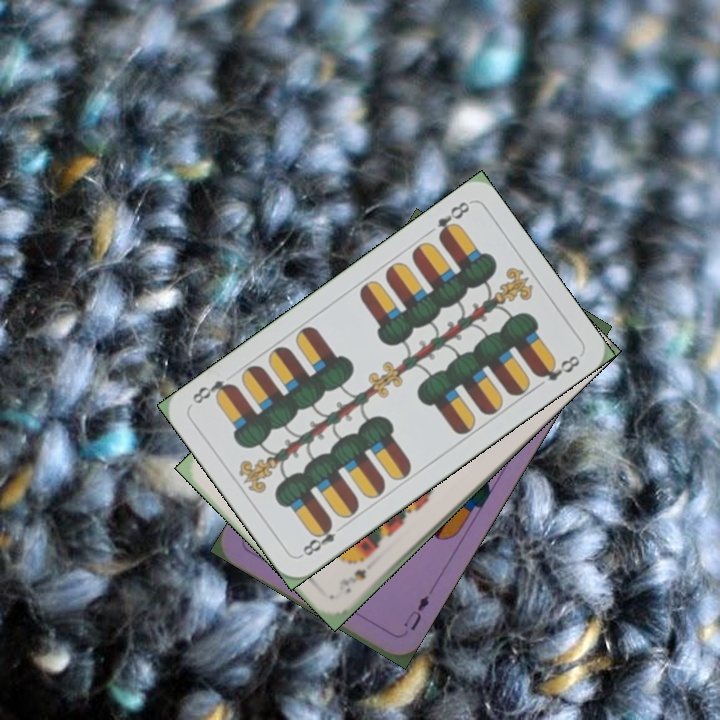E8: (432, 197, 473, 243), (296, 518, 339, 560)
EU: (399, 591, 432, 633)
S9: (334, 565, 369, 597)
